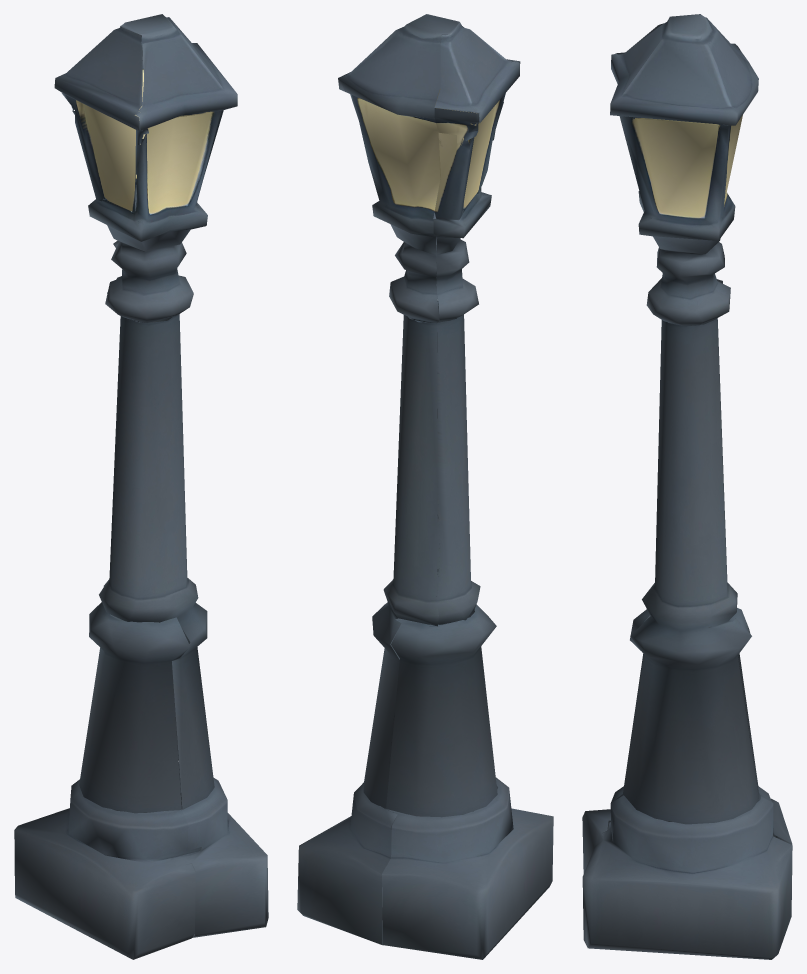
3 views of the same model, side by side, from view 1: azimuth 30°, elevation 25°; view 2: azimuth 150°, elevation 25°; view 3: azimuth 270°, elevation 25° (orthographic).
Parts seen in each view (by area): view 1: quad; view 2: quad; view 3: quad.
Boxes of the visible parts, x1=… form: quad: x1=14, y1=14, x2=268, y2=959; quad: x1=297, y1=14, x2=553, y2=959; quad: x1=582, y1=14, x2=792, y2=959.
Size of the model in its own units: 89.64 by 400 by 85.38.
Materials: 1 (1 with a texture image).
